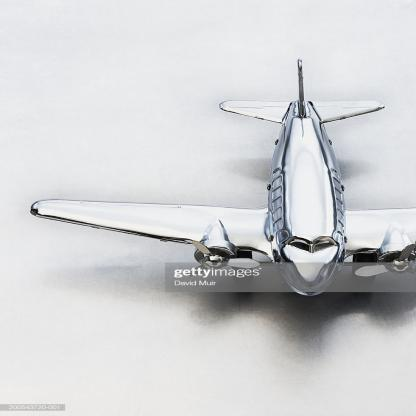CIV_Plane: (19, 57, 416, 296)
